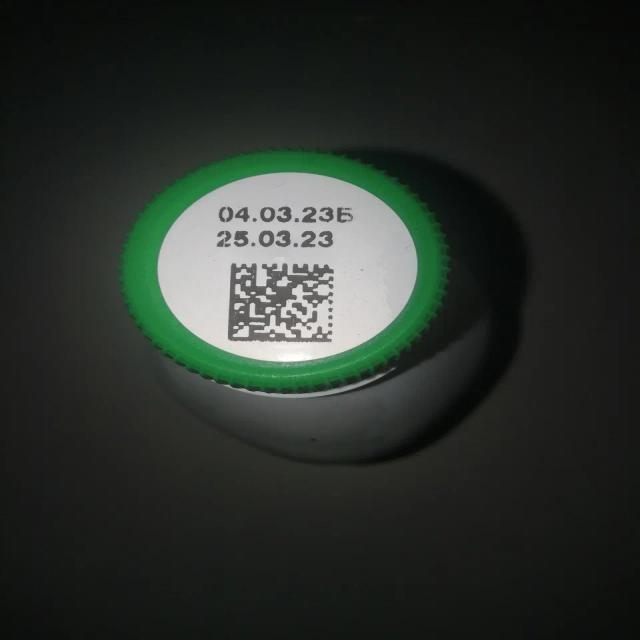datamatrix: (226, 261, 337, 346)
